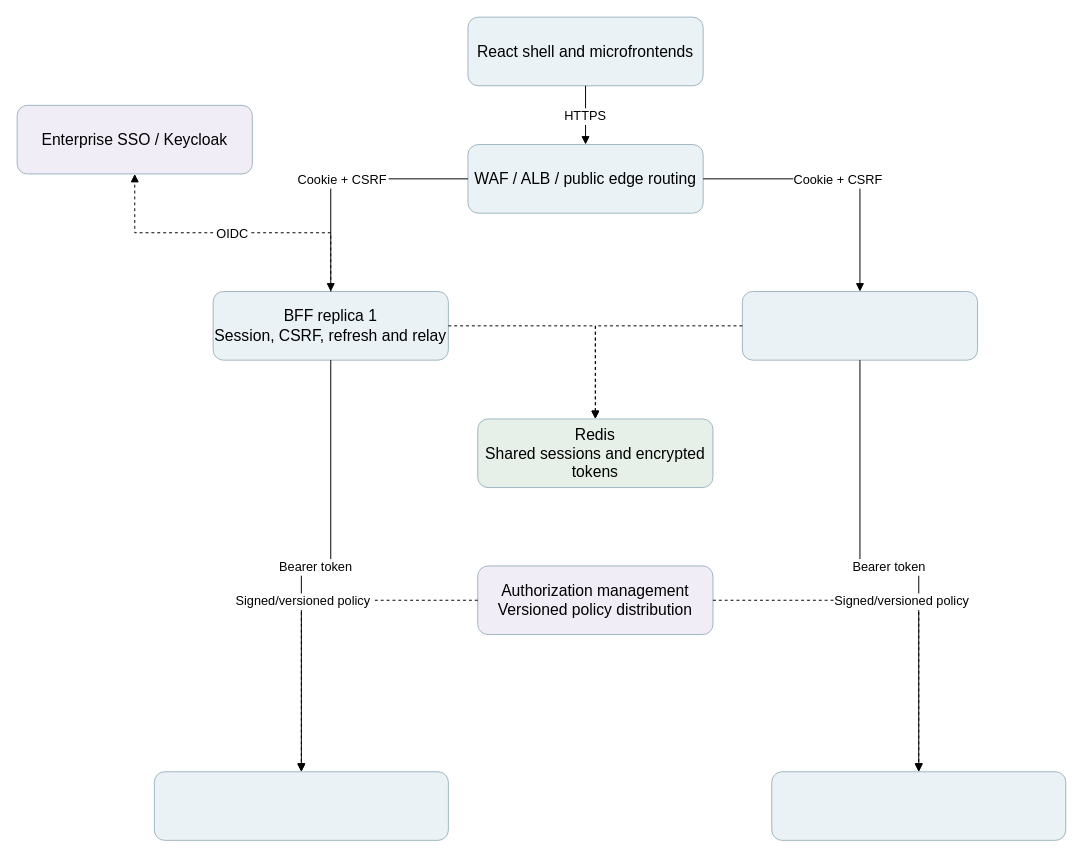
Image size: 1083x858. Some labels were removed from this diagram. The box of each missing label's shape, as (x1, y1, x2, y2) in pixels:
BFF replica 2 Same security contract: (741, 291, 978, 360)
Microservice 1 JWT + local RBAC and resource ABAC: (153, 771, 448, 840)
Microservice 2 JWT + local RBAC and resource ABAC: (771, 771, 1066, 840)
